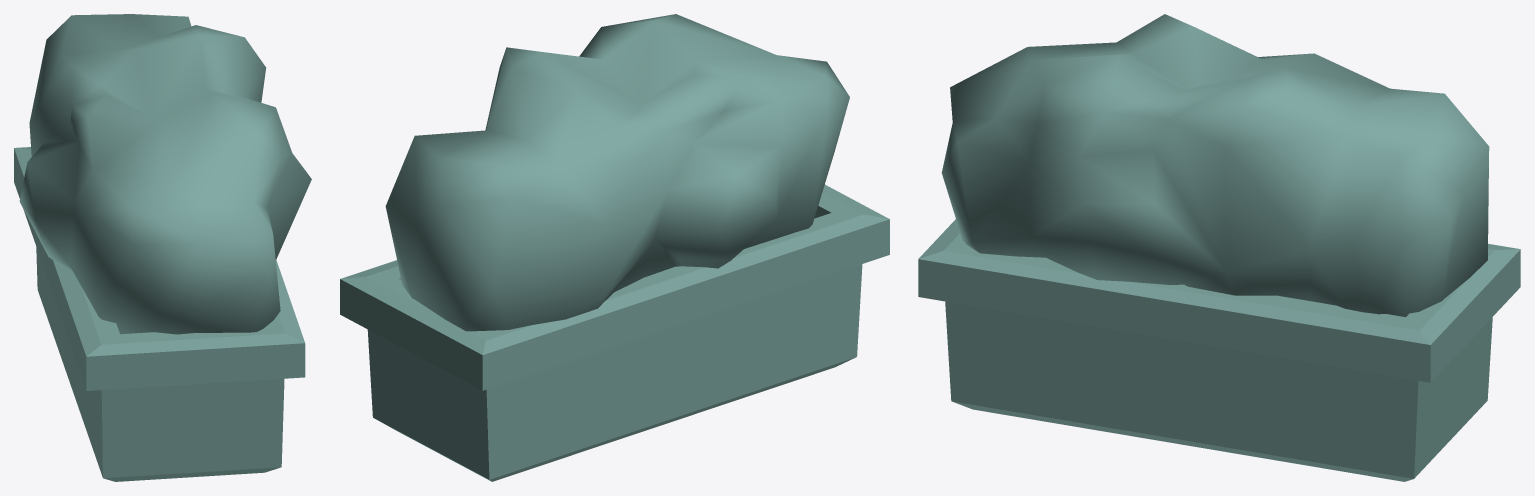
The model's file is bush.fbx.
The picture shows the model from 3 angles, left to right: view 1: azimuth 30°, elevation 25°; view 2: azimuth 150°, elevation 25°; view 3: azimuth 270°, elevation 25°; orthographic projection. The views are drawn at different scales.
Parts seen in each view (by area): view 1: bush; view 2: bush; view 3: bush.
Boxes of the visible parts, x1,y1,x2,y2 form: bush: (14,14,311,481); bush: (340,14,889,481); bush: (918,14,1520,481).
Bounding box in the file's own units: 636 × 595 × 890.
